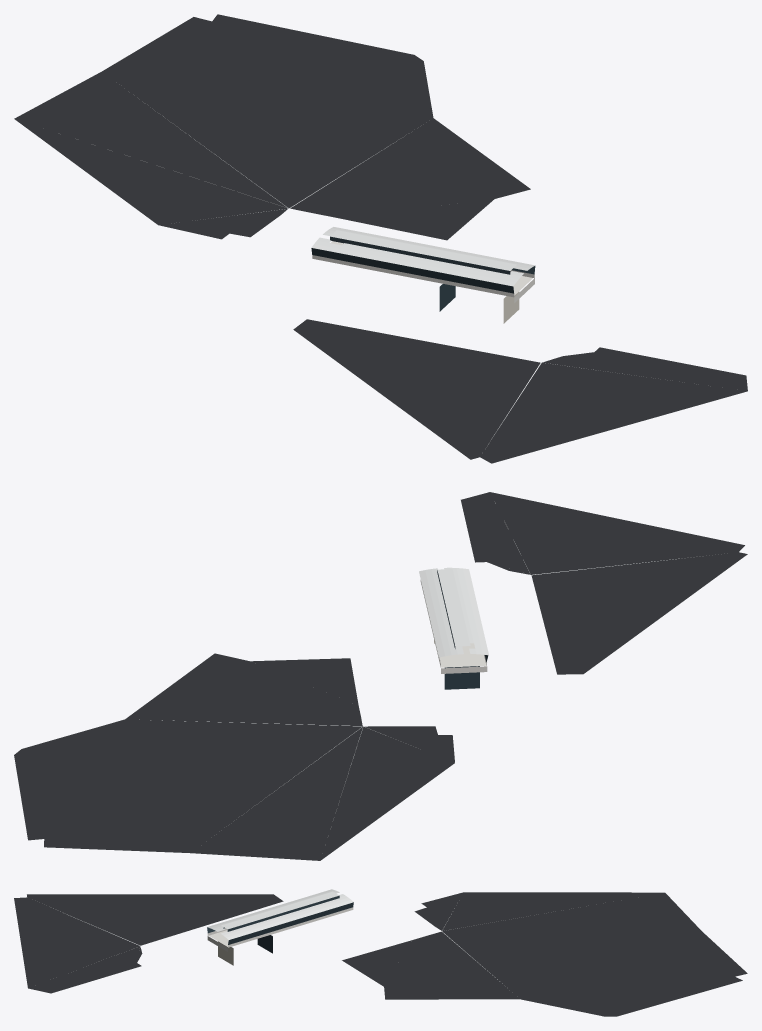
File: br_t127_davies_2_lod3.gltf
3 renders of one model, top to bottom at view 1: azimuth 30°, elevation 25°; view 2: azimuth 150°, elevation 25°; view 3: azimuth 270°, elevation 25°, orthographic. The views are drawn at different scales.
Visible parts, largest first — view 1: br_t127_davies_2_lod3; view 2: br_t127_davies_2_lod3; view 3: br_t127_davies_2_lod3.
Part boxes in pixels (x1=…): br_t127_davies_2_lod3: x1=14, y1=14, x2=747, y2=463; br_t127_davies_2_lod3: x1=14, y1=492, x2=747, y2=860; br_t127_davies_2_lod3: x1=14, y1=889, x2=747, y2=1016.
Size of the model in its own units: 179 by 22.84 by 445.
